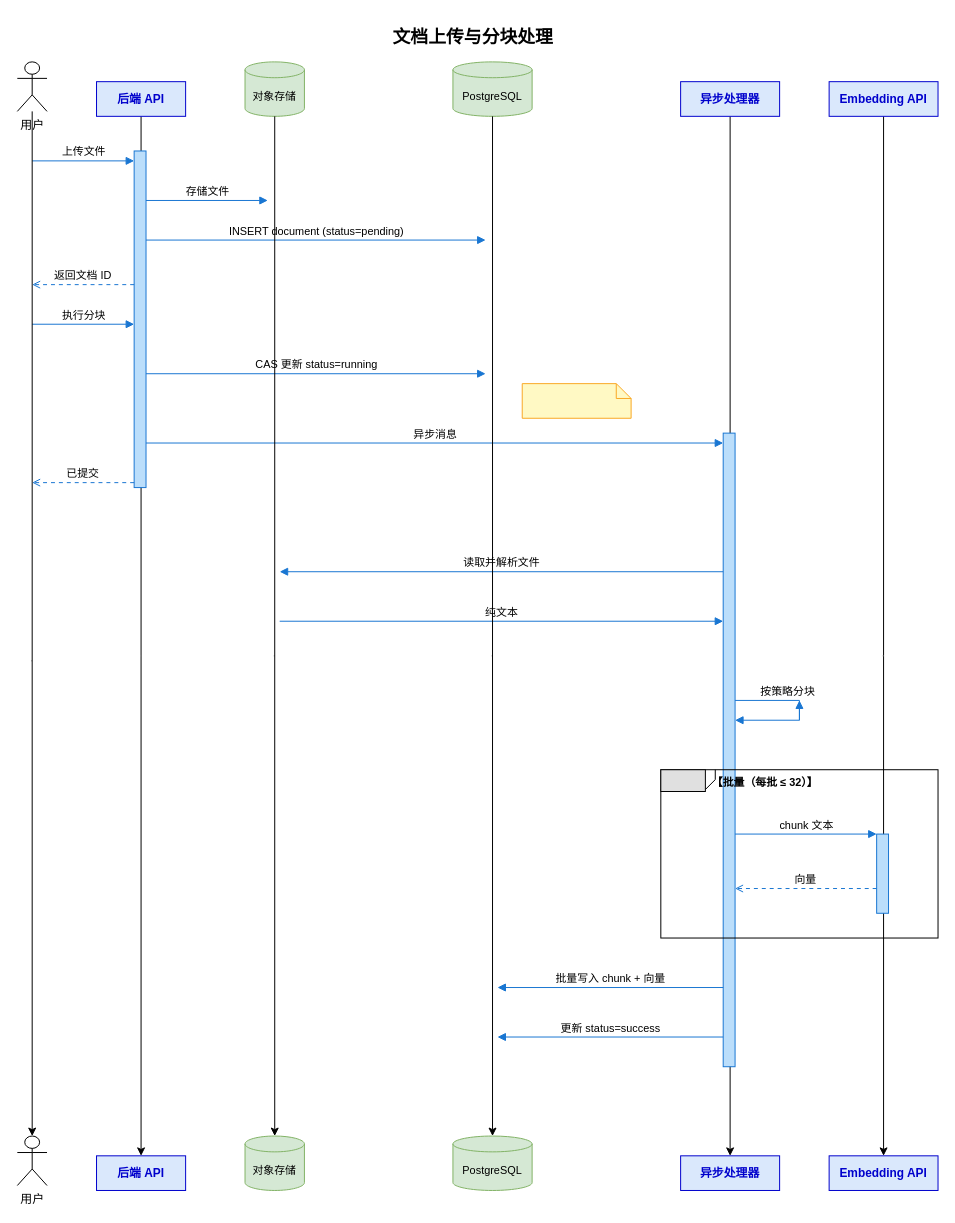
The diagram is 955 pixels wide and 1223 high, and some of its shapes have lost their labels. Here are the shapes that lost their labels. From the top down, the centre of each, then its label:
At point (576, 400): "乐观锁防重复".
At point (682, 780): "loop".
